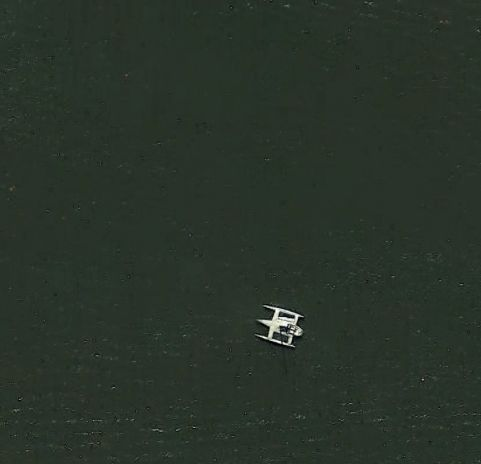boat: (252, 302, 305, 349)
